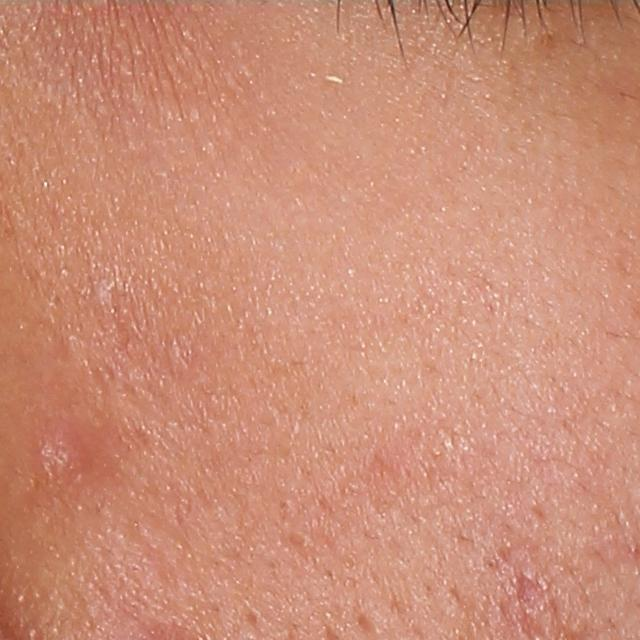atrophic_scar: (354, 609, 383, 638)
papule: (31, 415, 95, 491)
